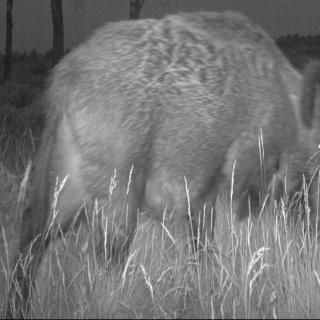Pig: (24, 1, 320, 252)
